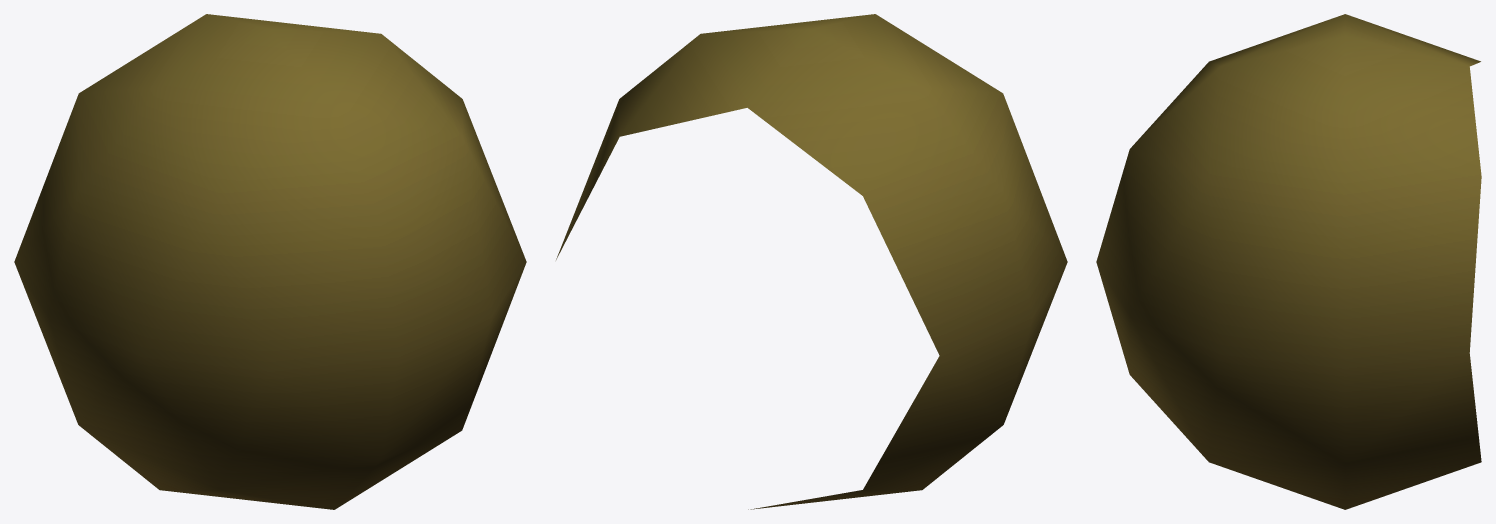
The model's file is part_transformer_billboardcap.glb.
3 views of the same model, side by side, from view 1: azimuth 30°, elevation 25°; view 2: azimuth 150°, elevation 25°; view 3: azimuth 270°, elevation 25° (orthographic). The views are drawn at different scales.
Parts seen in each view (by area): view 1: factory.part_transformer_billboardcap-Mesh[0]; view 2: factory.part_transformer_billboardcap-Mesh[0]; view 3: factory.part_transformer_billboardcap-Mesh[0].
Part boxes in pixels (box(x1,y1,x2,y2)): factory.part_transformer_billboardcap-Mesh[0]: box(14, 14, 526, 509); factory.part_transformer_billboardcap-Mesh[0]: box(556, 14, 1067, 509); factory.part_transformer_billboardcap-Mesh[0]: box(1096, 14, 1481, 509).
Size of the model in its own units: 0.64 by 0.64 by 0.4953.
Materials: 1 (1 with a texture image).
